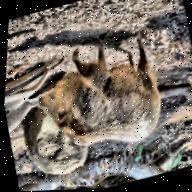boar: (23, 17, 185, 169)
